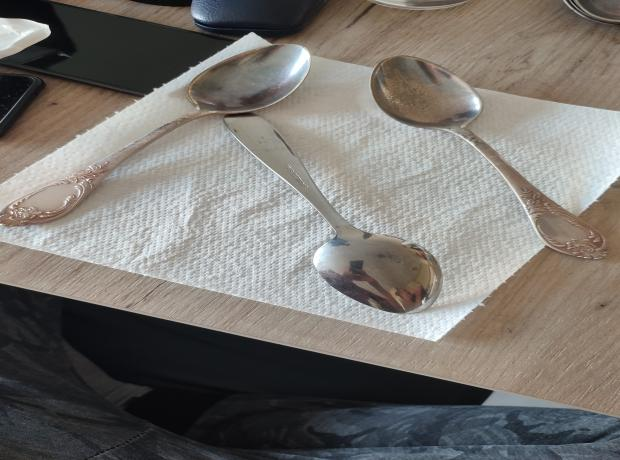metal: (0, 43, 315, 228), (370, 55, 611, 259), (213, 112, 444, 315)
